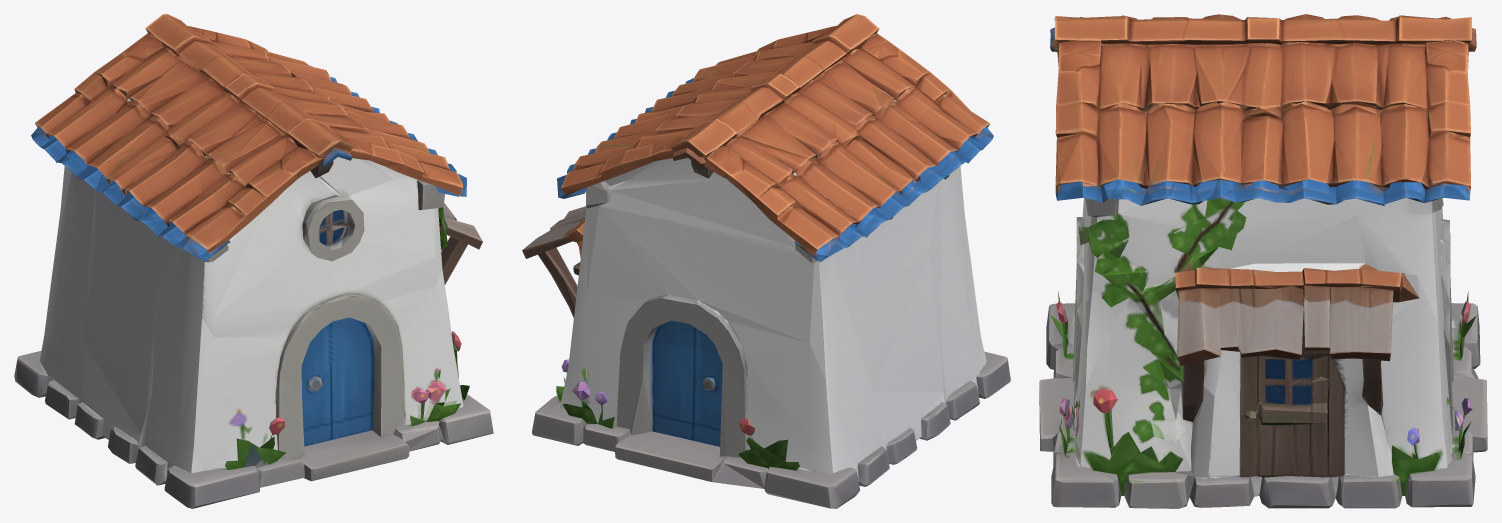
The model's file is house_2.glb.
3 renders of one model, left to right at view 1: azimuth 30°, elevation 25°; view 2: azimuth 150°, elevation 25°; view 3: azimuth 270°, elevation 25°, orthographic. The views are drawn at different scales.
Parts seen in each view (by area): view 1: house_2; view 2: house_2; view 3: house_2.
Boxes of the visible parts, x1,y1,x2,y2 form: house_2: [14, 14, 493, 508]; house_2: [522, 14, 1010, 508]; house_2: [1039, 14, 1487, 508].
Size of the model in its own units: 6.63 by 6 by 6.1.
1 material, 1 textured.
